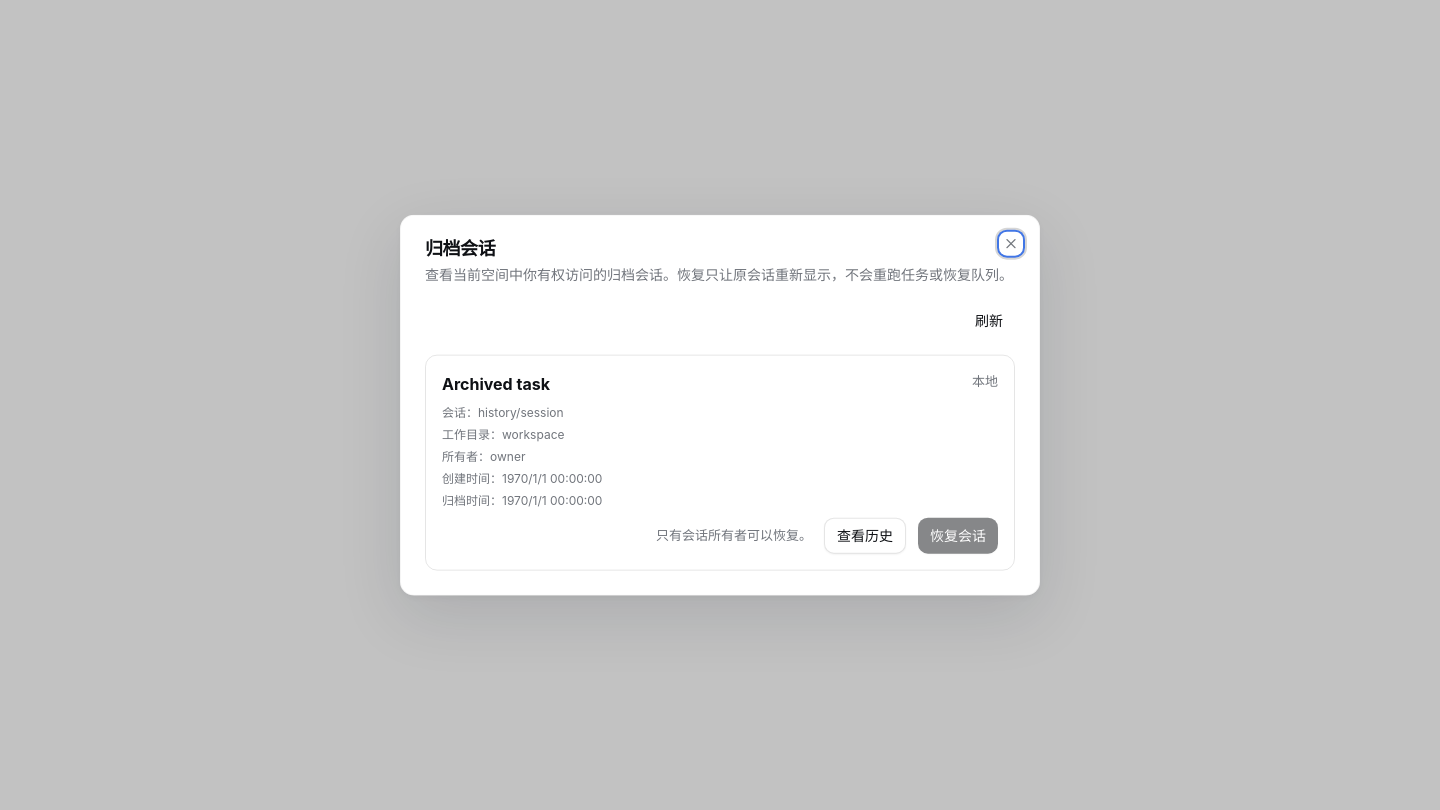
discards a late closed preview and clears previous history when a refresh loses permission
Click the button "查看历史" at (865, 535), box [824, 517, 906, 553]
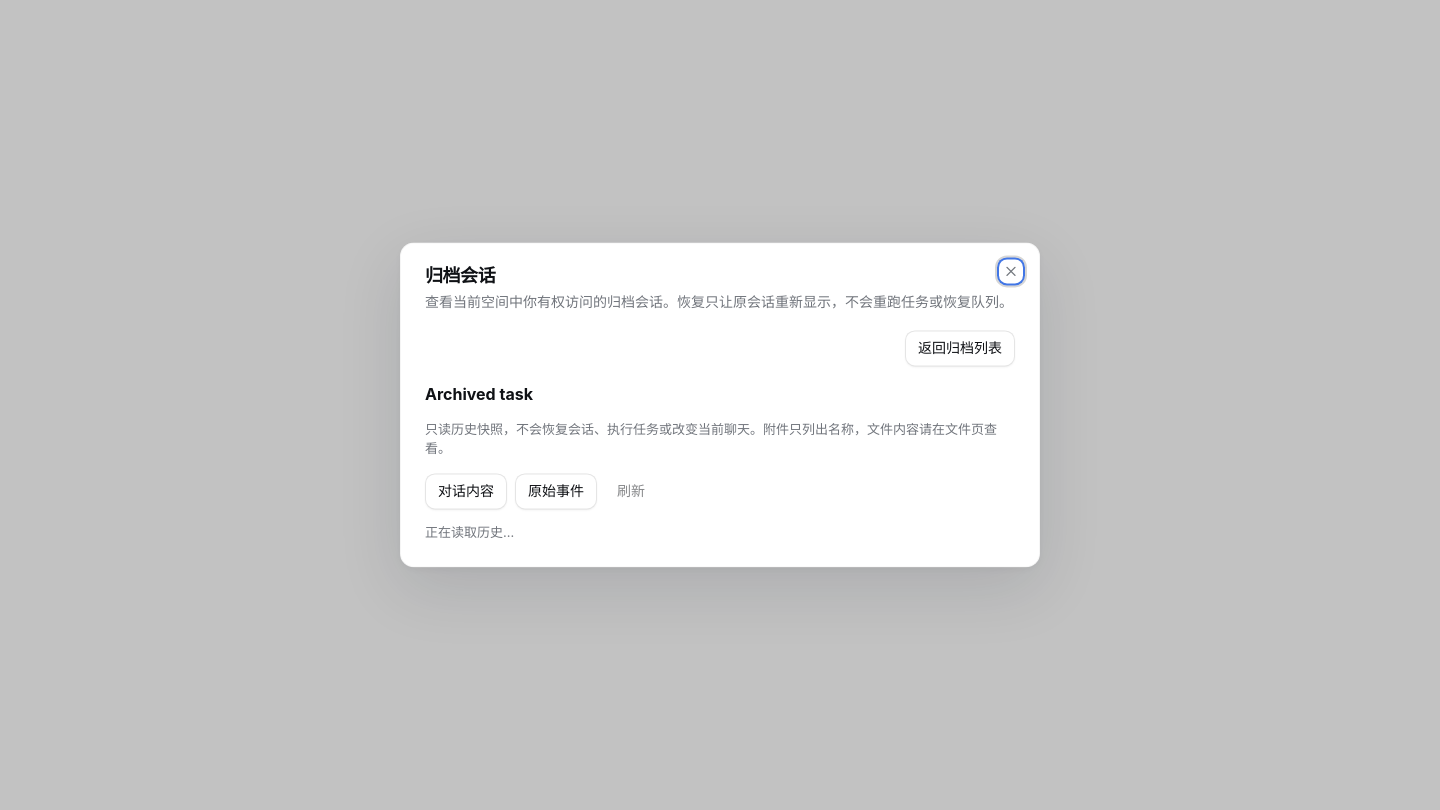
Click the button "返回归档列表" at (960, 348), box [905, 330, 1015, 366]
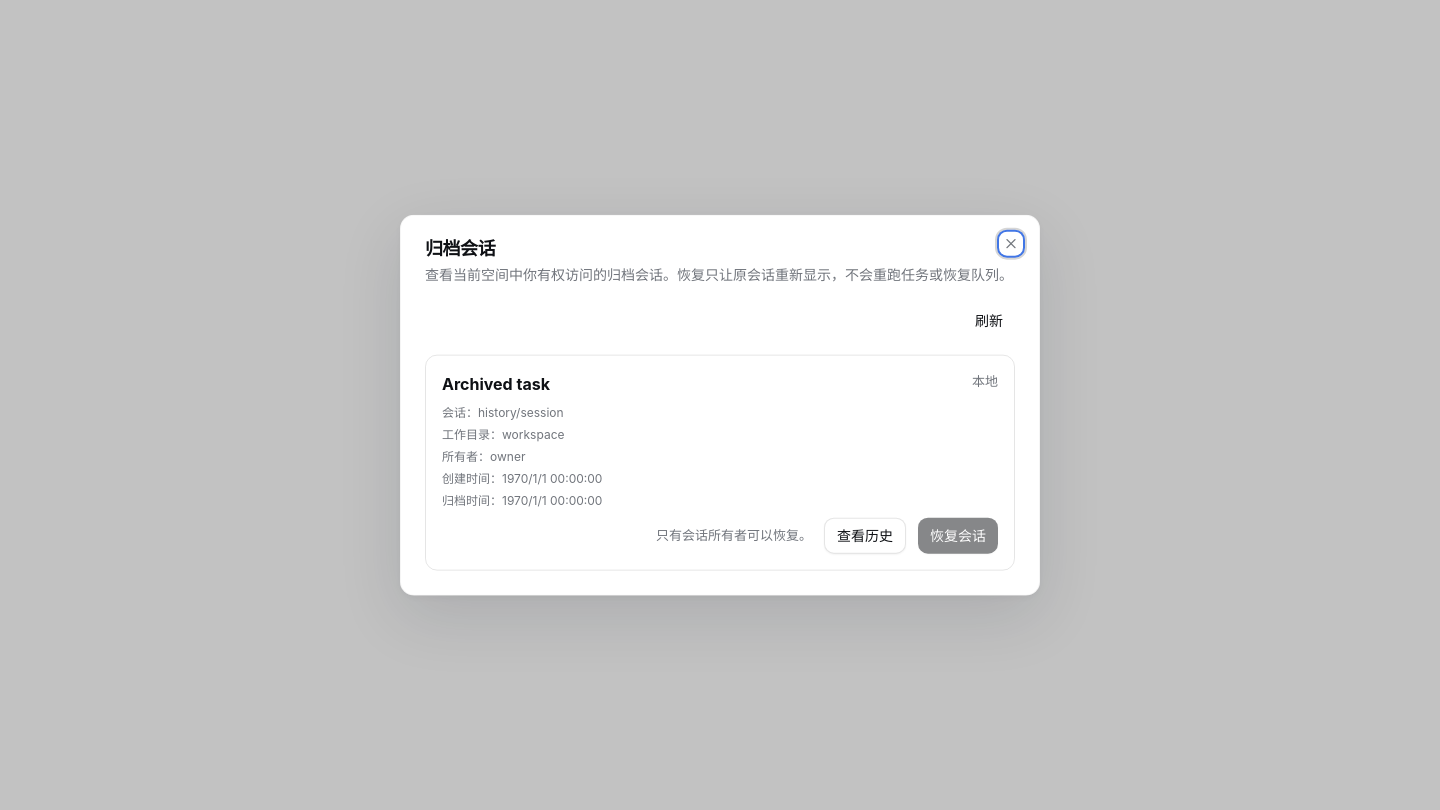
Now the button "查看历史" is shown
Click the button "查看历史" at (865, 535), box [824, 517, 906, 553]
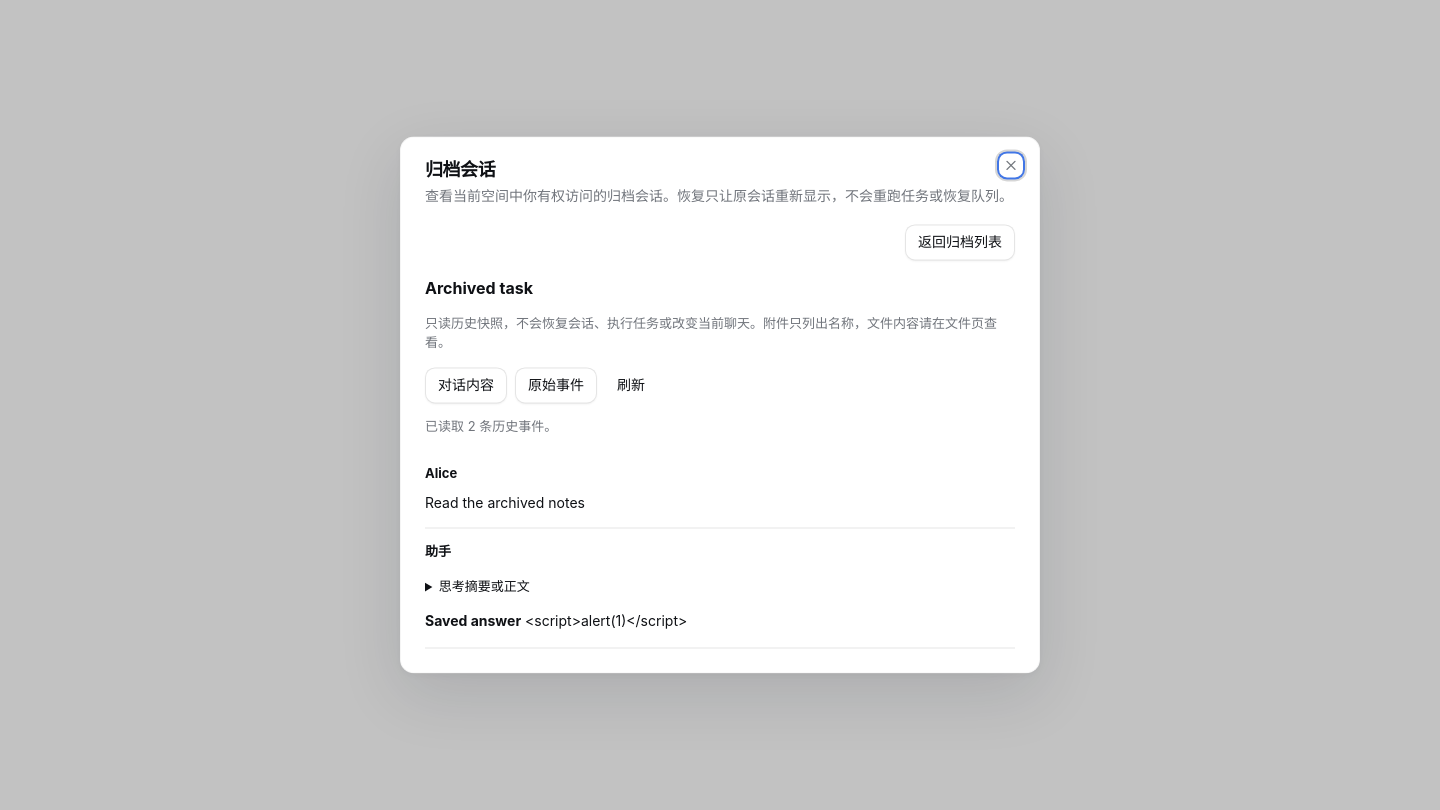
Now the text "Saved answer" is shown, box [425, 613, 521, 630]
Click the button "刷新" at (631, 385), box [605, 367, 657, 403]
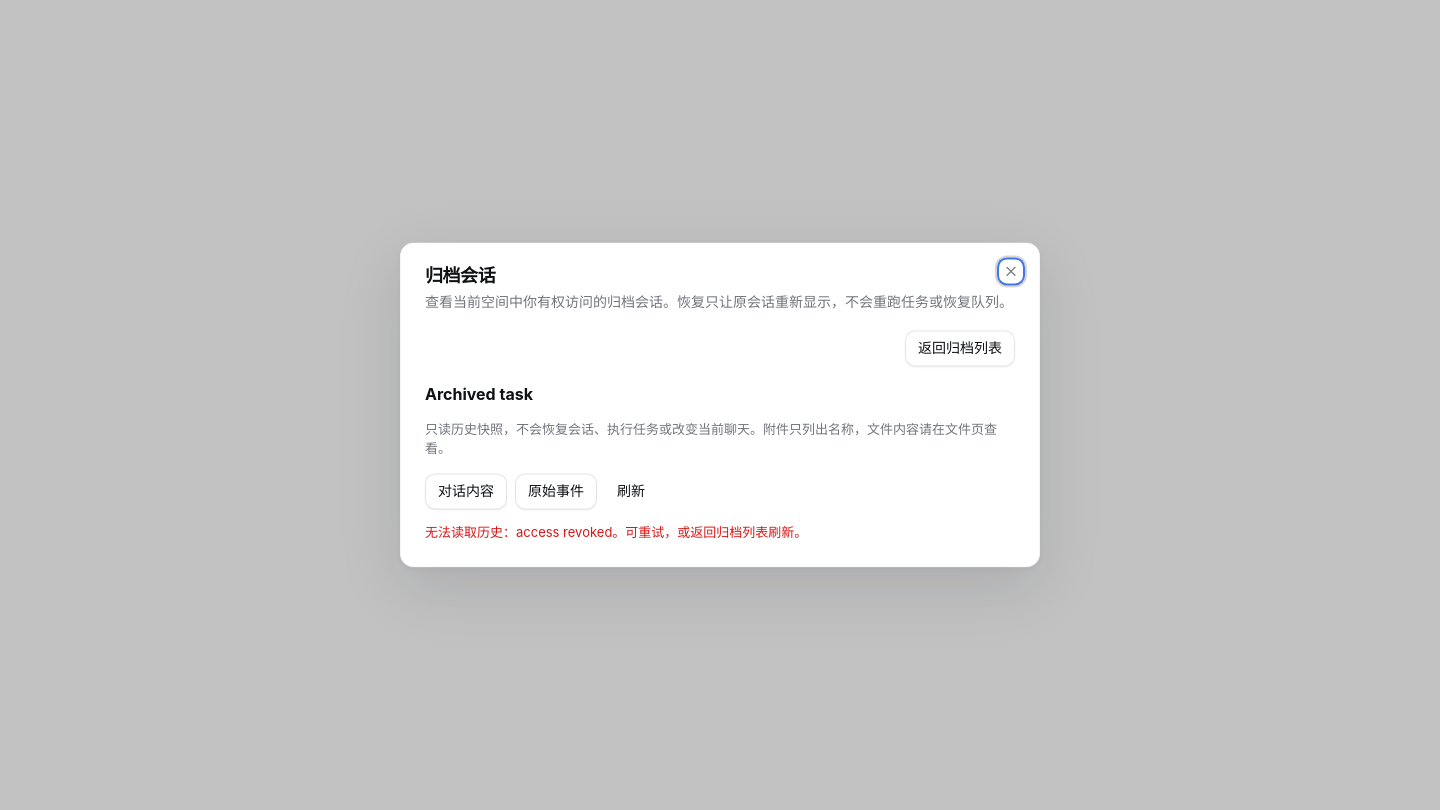
Now the message "无法读取历史：access revoked。可重试，或返回归档列表刷新。" is shown, box [425, 524, 807, 540]
Now the text "Saved answer" is gone
